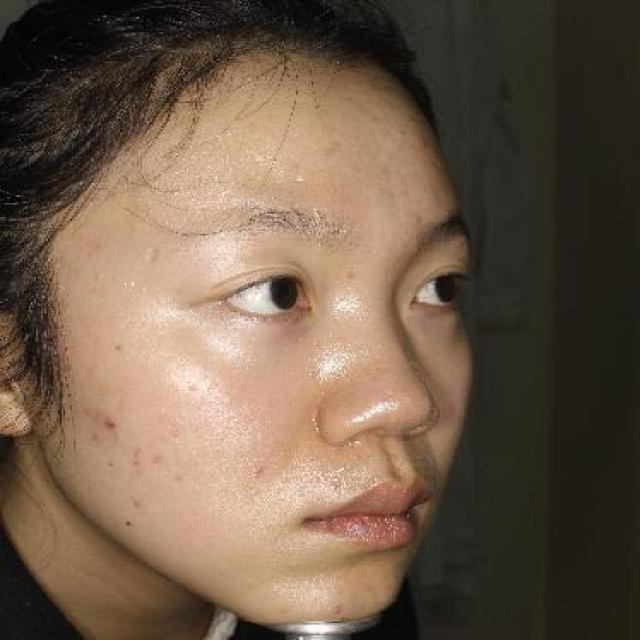blackheads: (92, 415, 124, 434), (104, 412, 118, 432), (122, 517, 135, 534)
